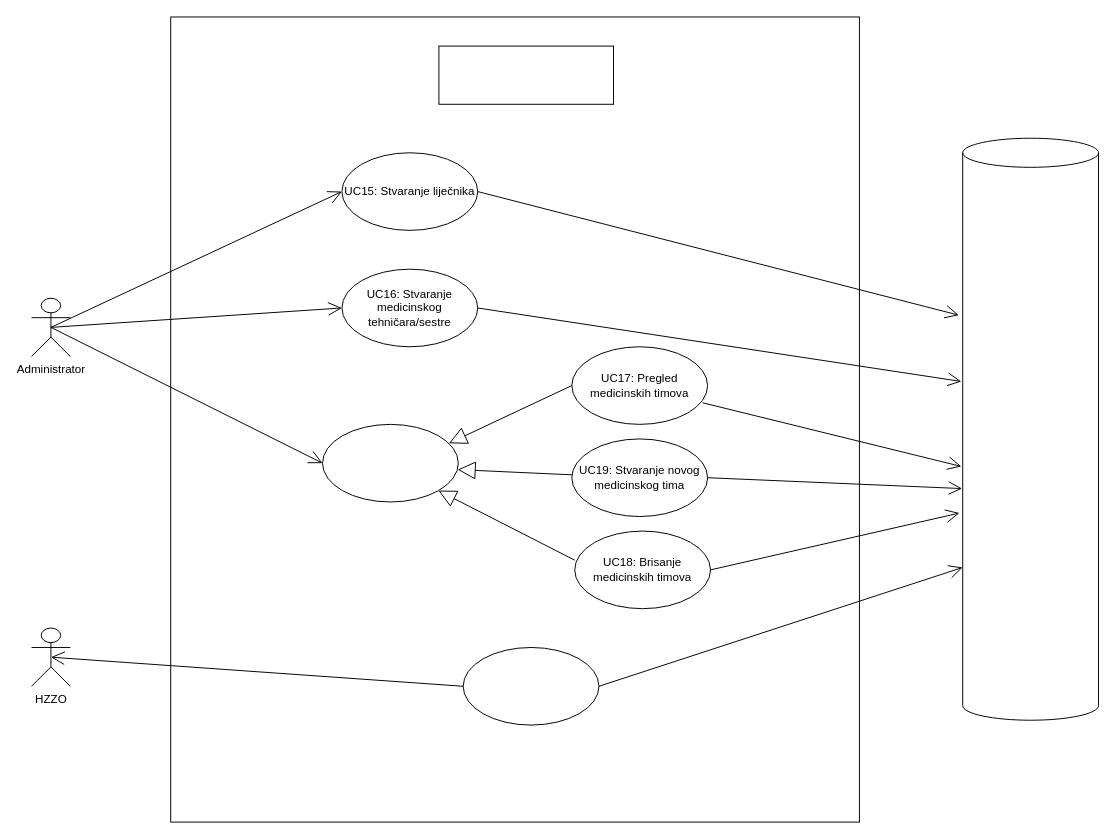
This 1116x839 diagram has some shape labels left out. The centre of each missing label's shape, as x and y in pixels:
"Baza podataka" goes at (x=1030, y=428).
"Funkcionalnost administratora" goes at (x=526, y=74).
"UC20: Generiranje izvješća" goes at (x=530, y=686).
"Upravljanje medicinskim timovima" goes at (x=390, y=462).
